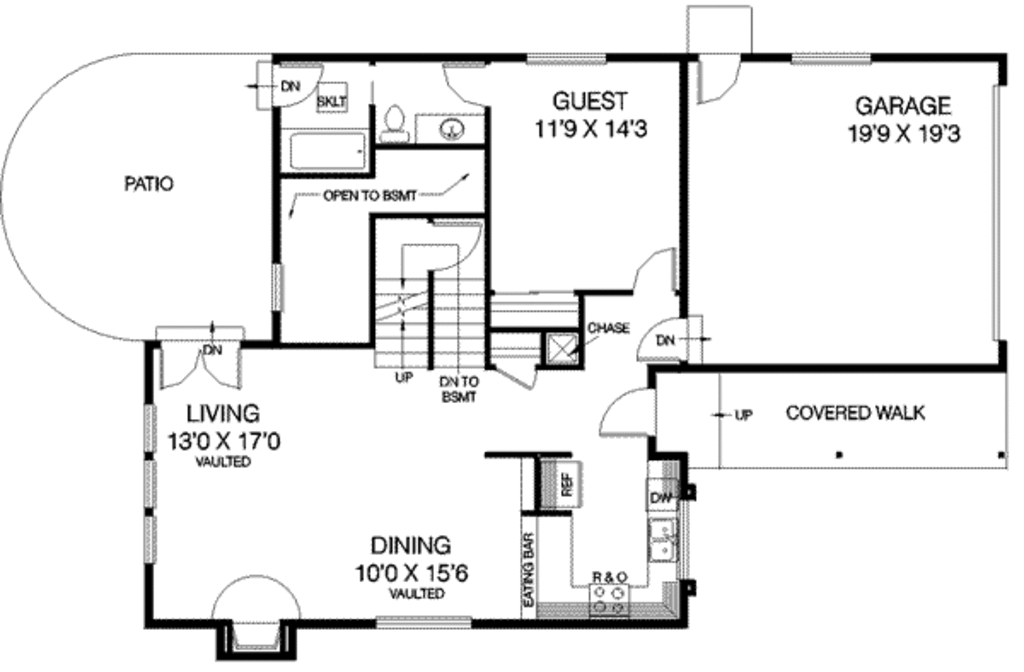door: (147, 323, 244, 390), (632, 316, 712, 365), (430, 215, 490, 277), (256, 56, 322, 112), (693, 50, 751, 105), (602, 385, 654, 440), (441, 61, 492, 116), (626, 250, 684, 296)
large_sink: (374, 96, 415, 144)
small_sink: (411, 114, 491, 144)
stairs: (370, 243, 482, 371)
tub: (277, 126, 371, 170)
twin_sink: (637, 513, 685, 568)
window: (366, 608, 479, 634), (784, 47, 877, 70), (138, 399, 166, 459), (521, 48, 608, 67), (266, 261, 292, 316), (141, 457, 163, 509), (141, 515, 161, 565)
